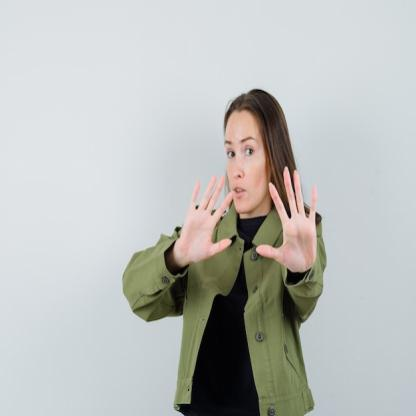stop: (252, 160, 319, 276), (174, 171, 235, 262)
